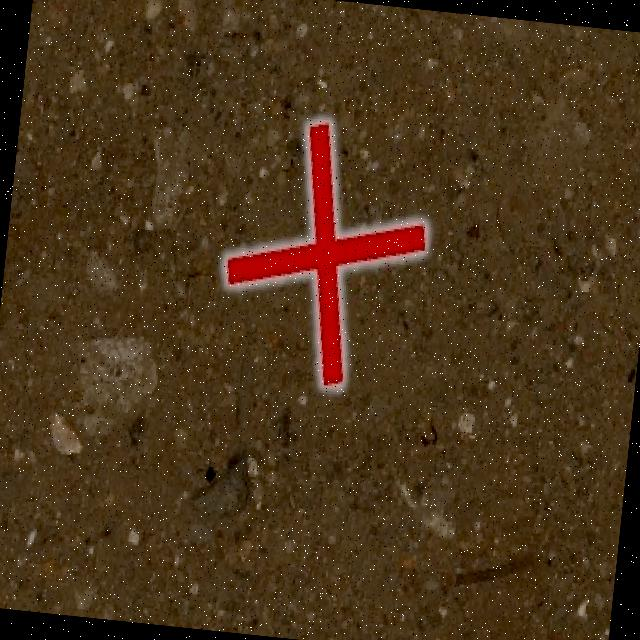x_marker: (213, 111, 435, 392)
